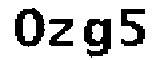0: (9, 4, 45, 51)
5: (118, 6, 148, 51)
g: (82, 15, 115, 60)
z: (48, 17, 74, 51)
